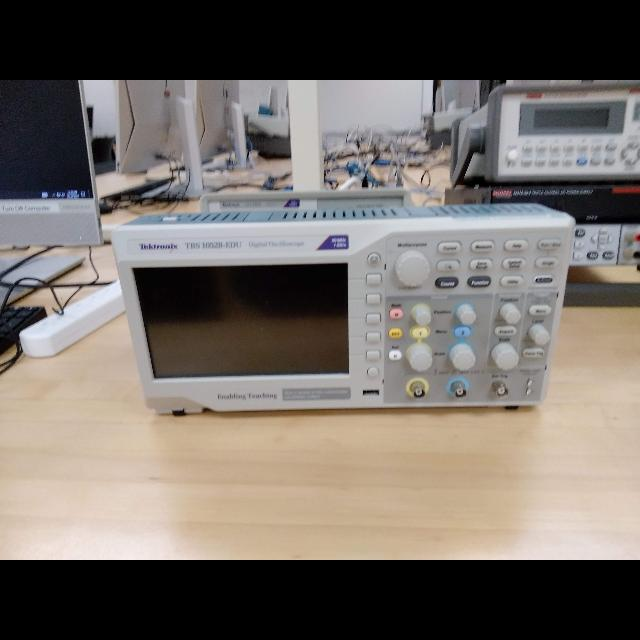Digital-Oscilloscope: (113, 228, 569, 411)
